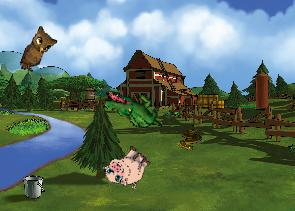crocodile: (102, 89, 164, 129)
owl: (18, 24, 60, 77)
pig: (99, 139, 155, 195)
